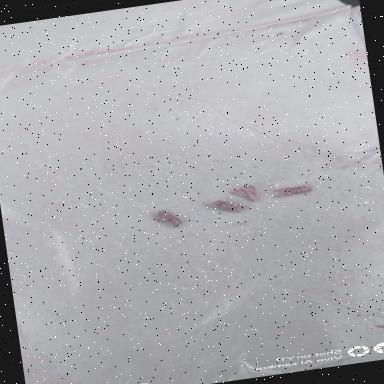pbw: (207, 194, 246, 216), (227, 180, 260, 204), (273, 183, 313, 198), (158, 207, 184, 230)
